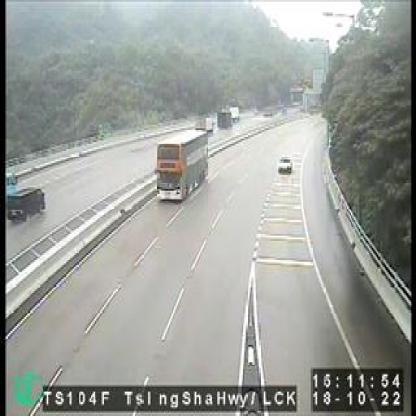Bus: (156, 129, 210, 203)
Car: (5, 185, 46, 224), (277, 154, 294, 175)
